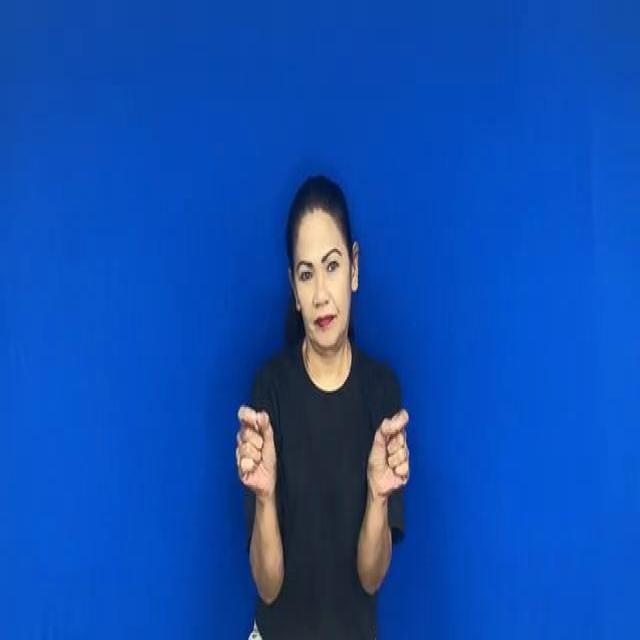crab: (223, 381, 422, 505)
